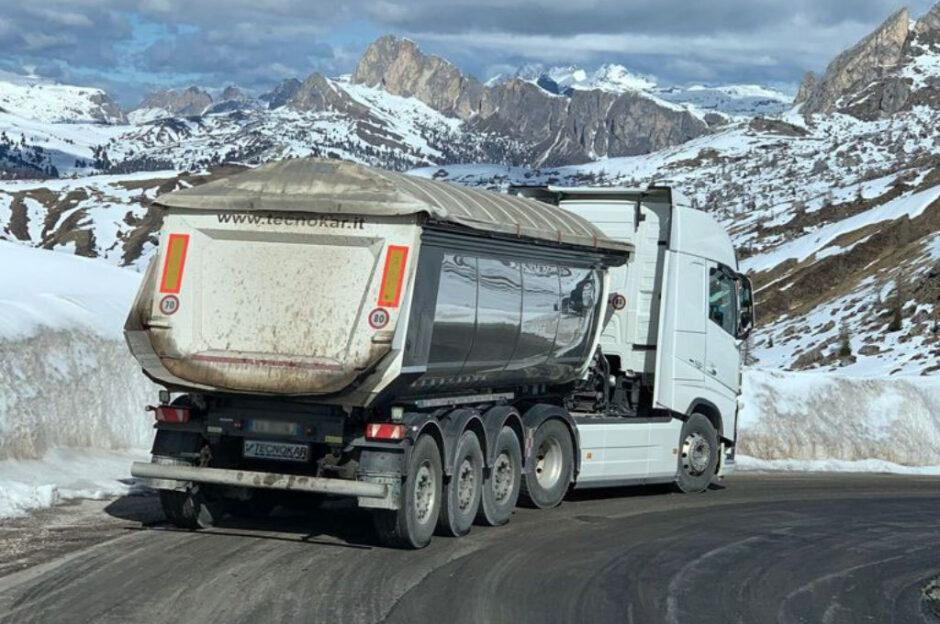vehicle: (124, 159, 753, 550)
